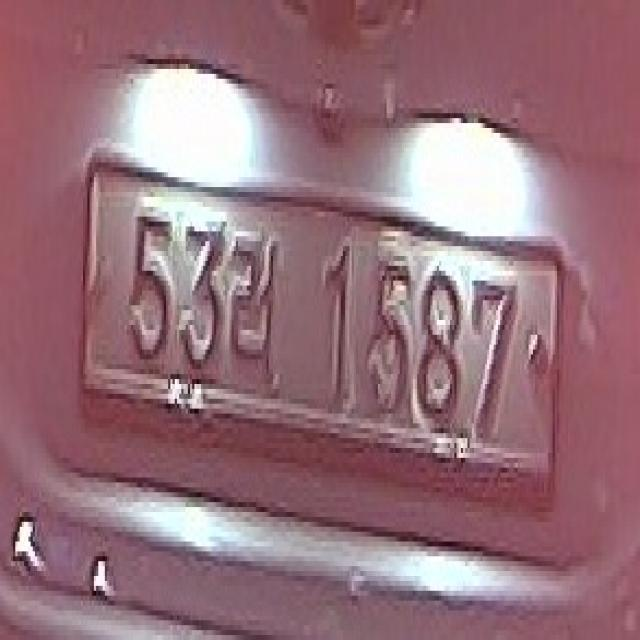1: (324, 226, 358, 424)
3: (181, 212, 227, 379)
5: (129, 192, 177, 379), (371, 226, 411, 424)
7: (459, 266, 522, 433)
8: (417, 241, 463, 438)
leo: (225, 222, 282, 379)
license_plate: (74, 153, 568, 546)
